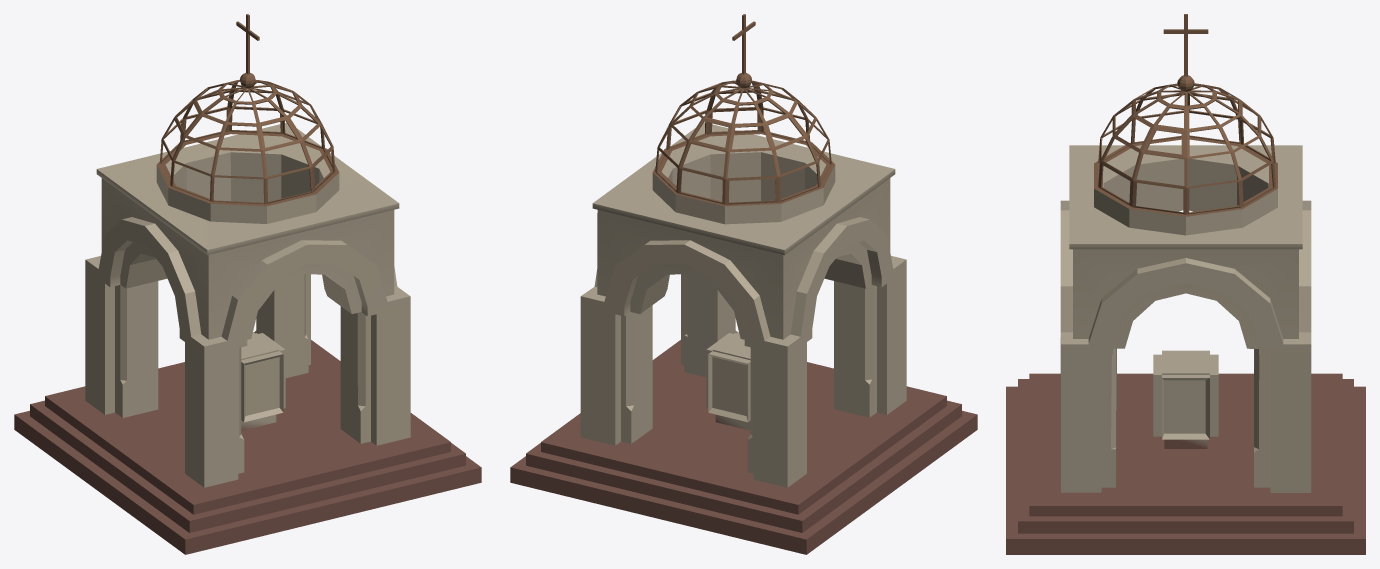
The picture shows the model from 3 angles, left to right: view 1: azimuth 30°, elevation 25°; view 2: azimuth 150°, elevation 25°; view 3: azimuth 270°, elevation 25°; orthographic projection. The views are drawn at different scales.
Parts seen in each view (by area): view 1: pCube4:PIV; view 2: pCube4:PIV; view 3: pCube4:PIV.
Part boxes in pixels (x1,y1,x2,y2): pCube4:PIV: (14,14,481,554); pCube4:PIV: (510,14,977,554); pCube4:PIV: (1006,14,1365,554).
Size of the model in its own units: 3.81 by 5.43 by 3.81.
